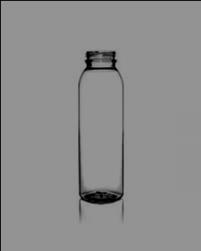Plastic: (81, 49, 120, 213)
